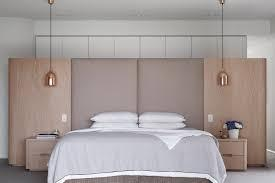bed: (53, 110, 216, 182)
light: (215, 0, 234, 90), (42, 0, 59, 89)
table: (22, 130, 58, 179), (218, 135, 249, 179)
